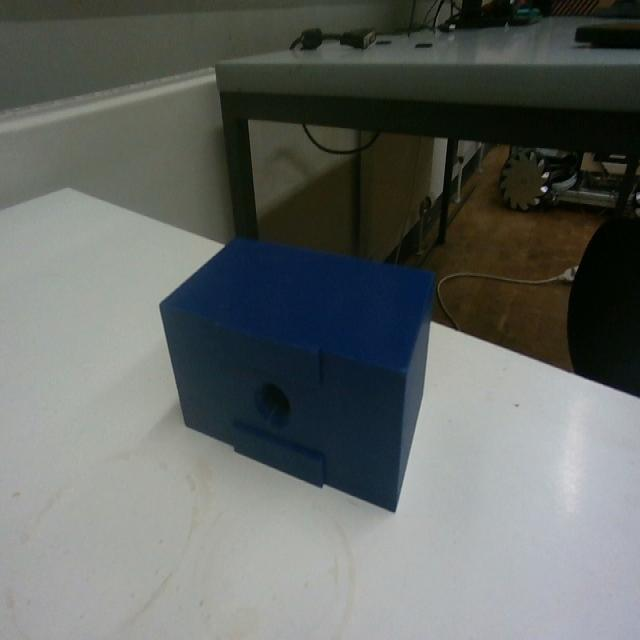Blue Cuboid: (157, 231, 437, 513)
